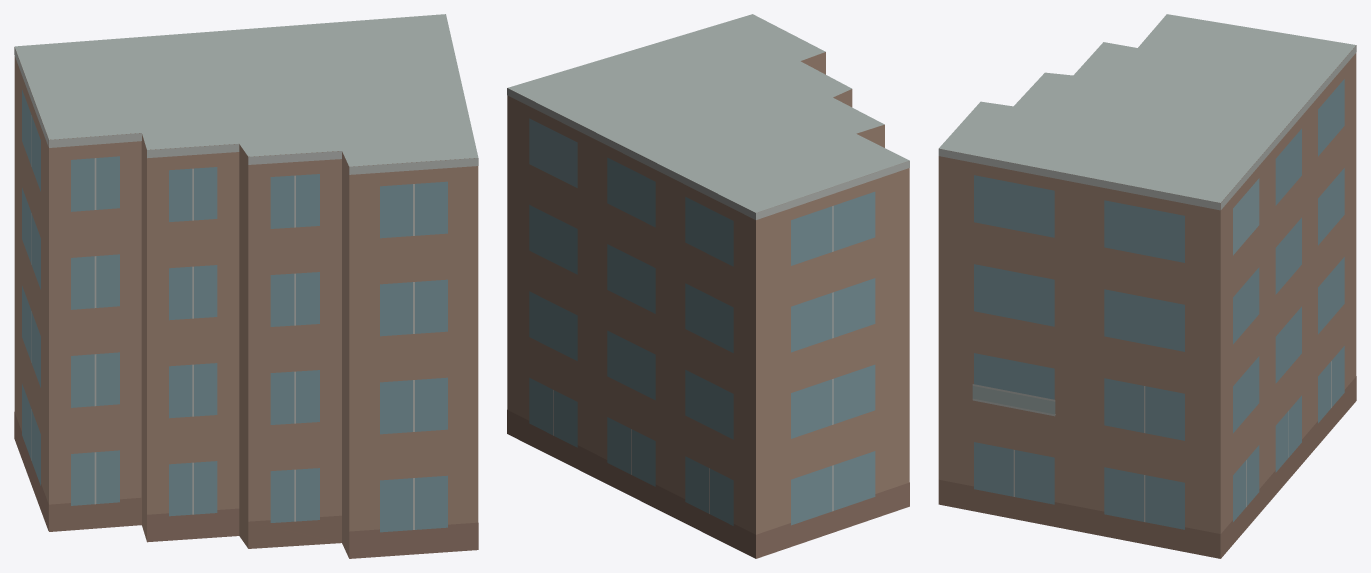
Rendered from survey-upis-32876045.glb.
The picture shows the model from 3 angles, left to right: view 1: azimuth 30°, elevation 25°; view 2: azimuth 150°, elevation 25°; view 3: azimuth 270°, elevation 25°; orthographic projection. The views are drawn at different scales.
Visible parts, largest first — view 1: survey-upis-32876045.tmp; view 2: survey-upis-32876045.tmp; view 3: survey-upis-32876045.tmp.
Part boxes in pixels (bbox=[...]): survey-upis-32876045.tmp: bbox=[14, 14, 478, 558]; survey-upis-32876045.tmp: bbox=[507, 14, 909, 558]; survey-upis-32876045.tmp: bbox=[938, 14, 1356, 558].
Bounding box in the file's own units: 13.26 × 11.64 × 12.4.
